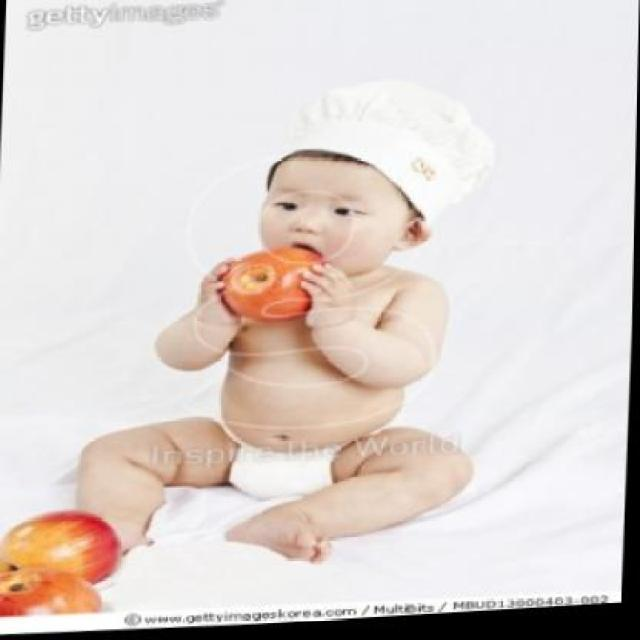hat: (246, 67, 499, 248)
